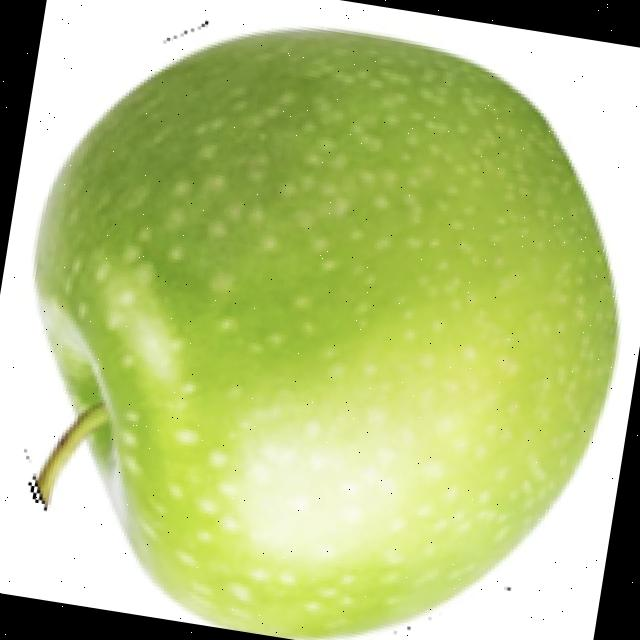apple: (20, 24, 622, 640)
